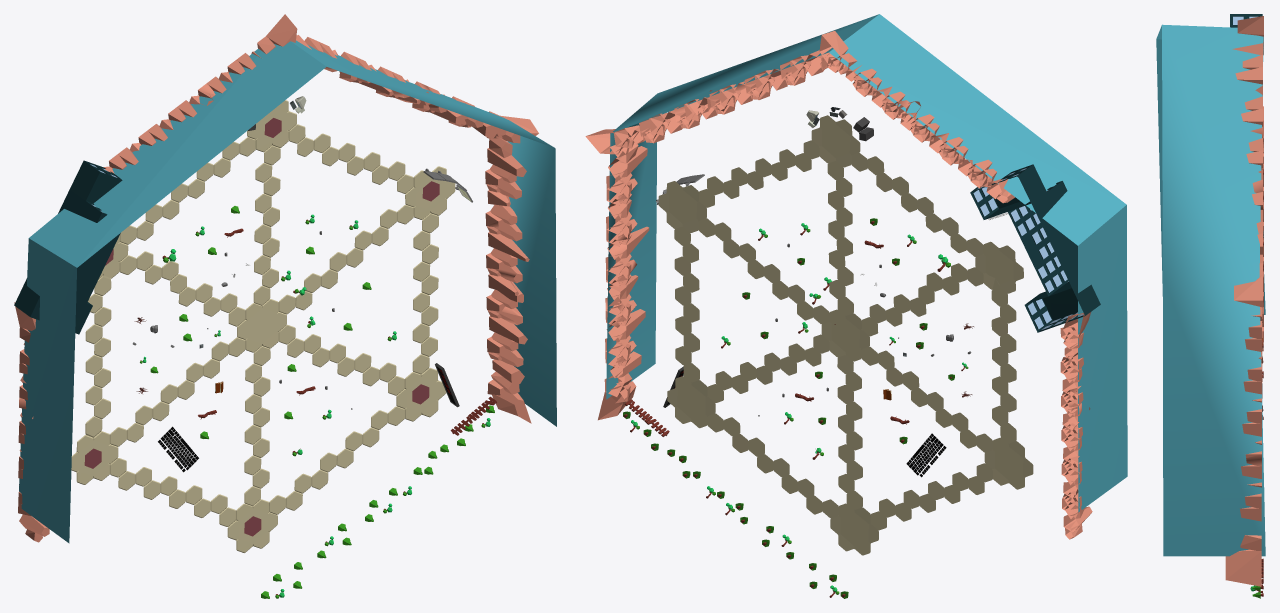
Rendered from MainMap.glb.
The picture shows the model from 3 angles, left to right: view 1: azimuth 30°, elevation 25°; view 2: azimuth 150°, elevation 25°; view 3: azimuth 270°, elevation 25°; orthographic projection. The views are drawn at different scales.
Parts seen in each view (by area): view 1: Plane.001, пол.003, Circle.015, stone2.001, Circle.001, Circle.014, Circle.032, подставкаКлавиатуры.003; view 2: пол.003, Plane.001, Circle.015, stone2.001, Circle.014, Circle.001, Circle.032, stone2.003, подставкаКлавиатуры.003; view 3: Plane.001, Circle.015, Circle.014, Circle.001, Circle.032.
Part boxes in pixels (x1,y1,x2,y2): Plane.001: (19, 40, 556, 543); пол.003: (71, 100, 455, 552); Circle.015: (485, 138, 531, 423); stone2.001: (14, 160, 122, 334); Circle.001: (103, 14, 297, 173); Circle.014: (296, 35, 538, 143); Circle.032: (14, 302, 49, 542); подставкаКлавиатуры.003: (158, 426, 198, 472); пол.003: (658, 115, 1033, 555); Plane.001: (606, 14, 1127, 512); Circle.015: (598, 142, 649, 420); stone2.001: (970, 164, 1100, 332); Circle.014: (585, 50, 835, 157); Circle.001: (819, 31, 1014, 203); Circle.032: (1060, 312, 1092, 539); stone2.003: (973, 168, 1083, 329); подставкаКлавиатуры.003: (906, 433, 946, 477); Plane.001: (1156, 24, 1265, 556); Circle.015: (1225, 307, 1262, 586); Circle.014: (1232, 43, 1262, 307); Circle.001: (1237, 16, 1263, 55); Circle.032: (1262, 106, 1263, 351).
Size of what is drawn, in the model's own units: 139 by 149 by 25.41.
Materials: 43 (7 with a texture image).
